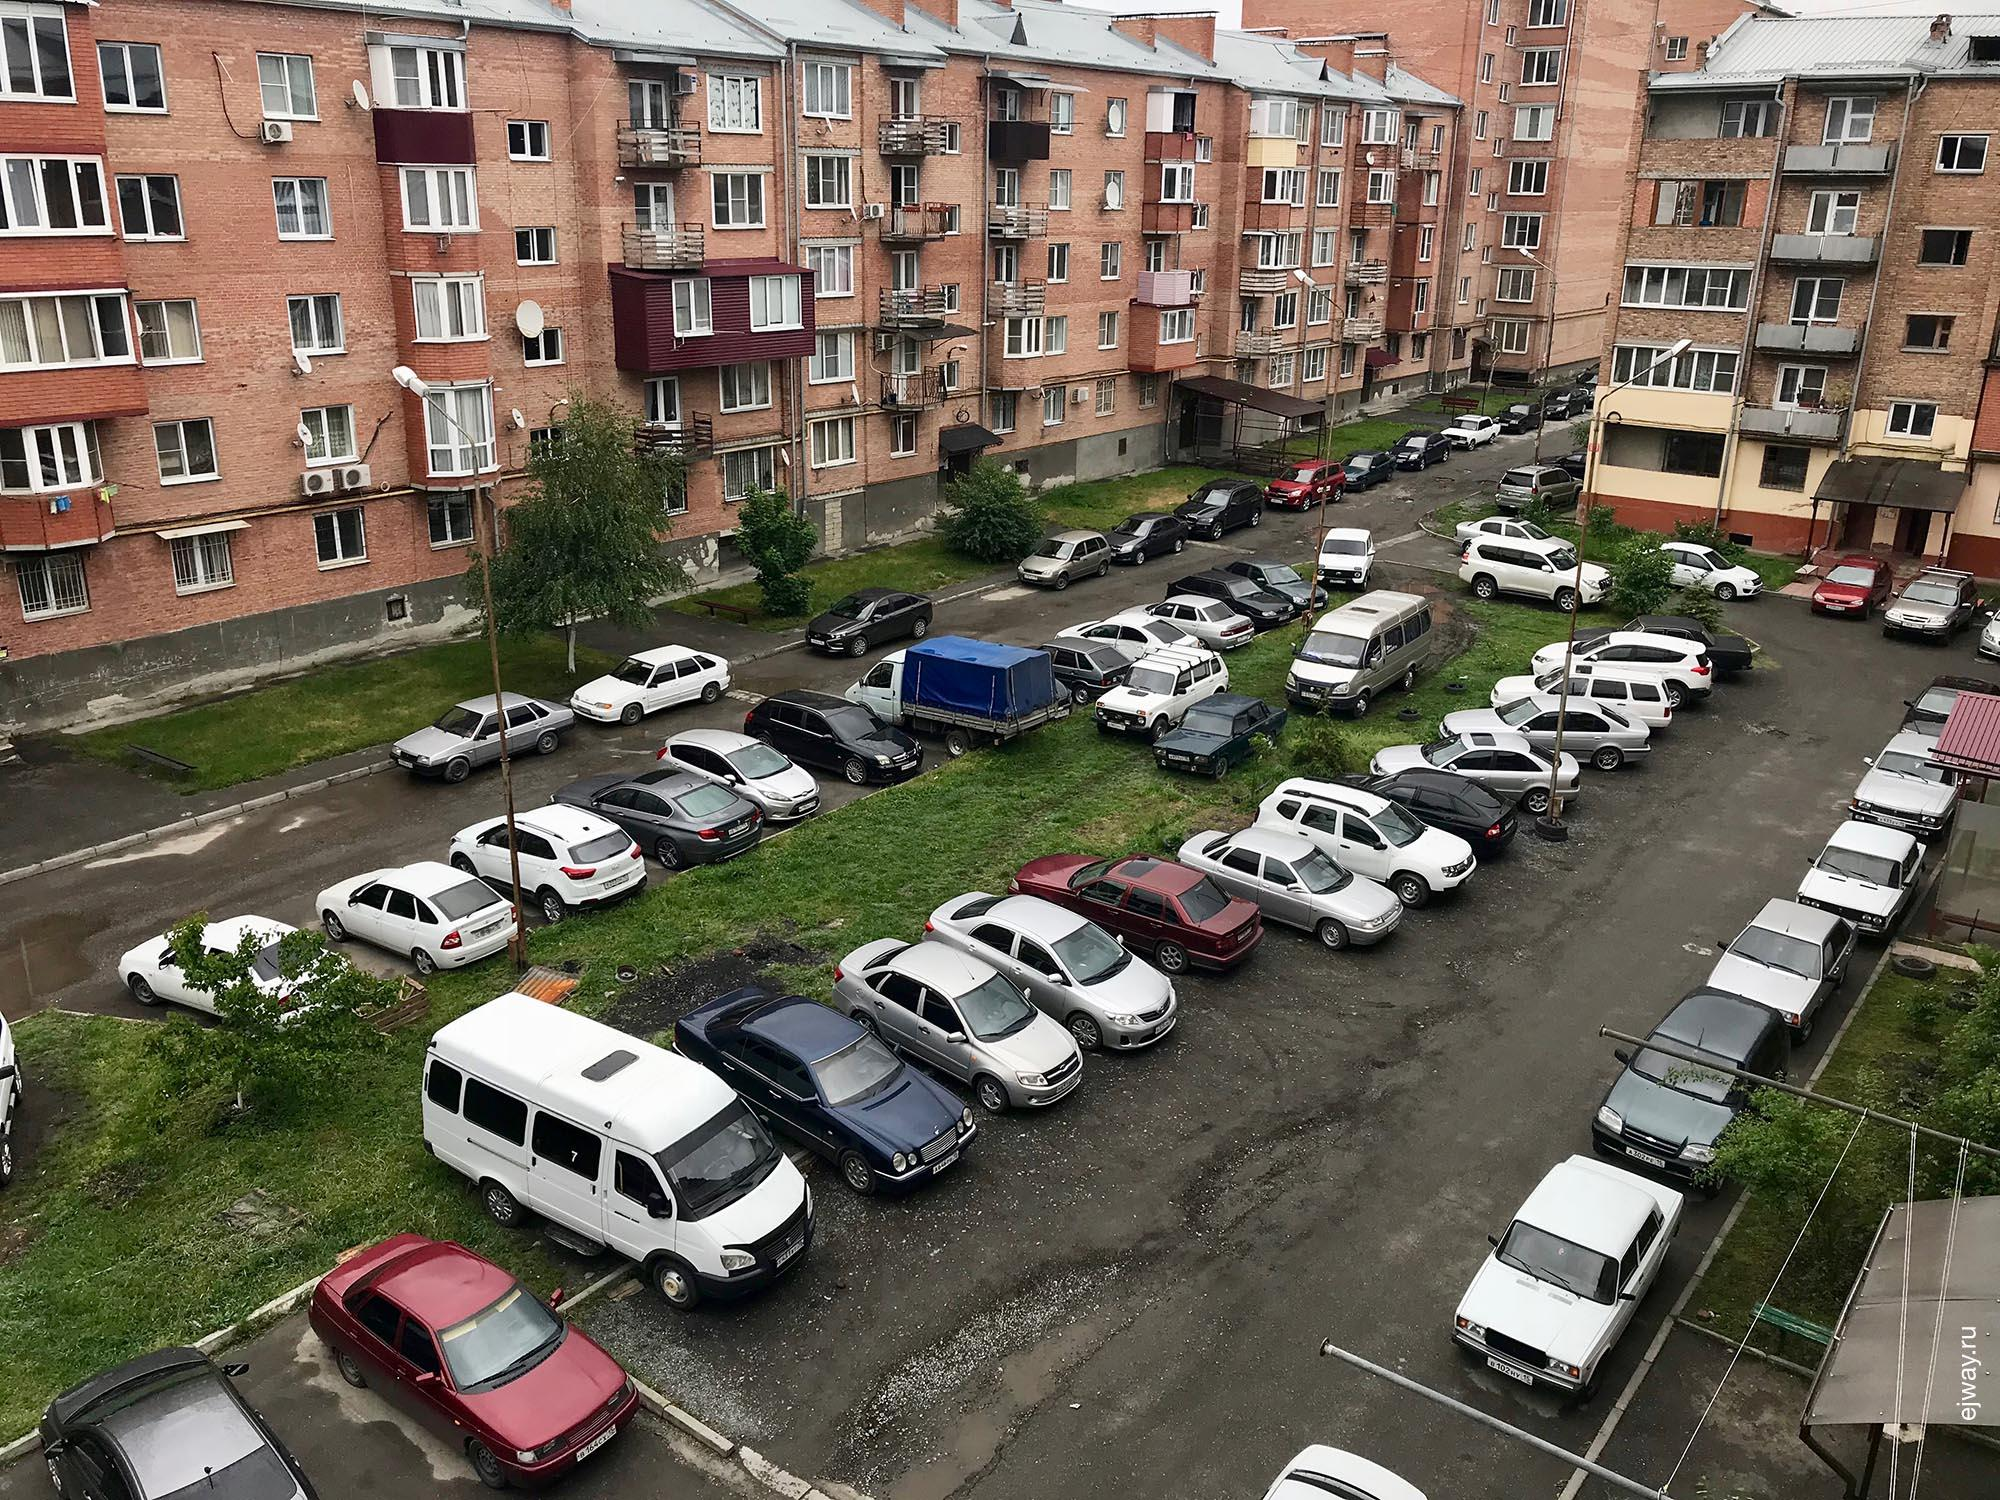empty: (409, 1026, 827, 1286), (317, 1242, 652, 1478), (1441, 1149, 1698, 1404), (706, 996, 956, 1190), (33, 1363, 386, 1497), (858, 941, 1074, 1114), (951, 895, 1175, 1054), (106, 912, 328, 1038), (880, 614, 1099, 741), (1665, 901, 1849, 1045), (1057, 860, 1254, 983), (1586, 1037, 1740, 1188), (1280, 778, 1457, 908), (1197, 824, 1384, 944), (1272, 589, 1439, 715), (326, 862, 518, 964), (479, 800, 644, 908), (1235, 1442, 1529, 1500), (1380, 744, 1543, 846), (400, 684, 580, 777), (1461, 693, 1638, 782), (767, 687, 926, 783), (1409, 725, 1573, 815), (597, 767, 750, 857), (1844, 730, 1962, 841), (1808, 810, 1913, 934), (798, 572, 946, 660), (573, 643, 729, 726), (672, 730, 817, 816), (1096, 646, 1230, 734), (1153, 692, 1280, 780), (1153, 581, 1258, 644), (1894, 562, 1956, 651), (1805, 556, 1882, 626)
occupied: (244, 759, 386, 830), (912, 567, 1027, 624)
